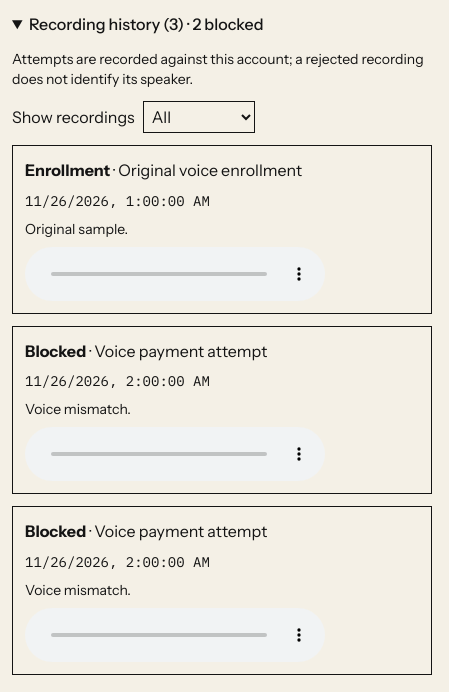
Scenario: shows original and blocked audio separately and preserves the original player when later recordings arrive
expect the number of elements named "Play consented security recording" is 3: met, box 25,247 -> 325,301; 25,427 -> 325,481; 25,608 -> 325,662
Select "Blocked" in the dropdown named "Filter recording history". click: x=199, y=117
box: 143,101 -> 255,133
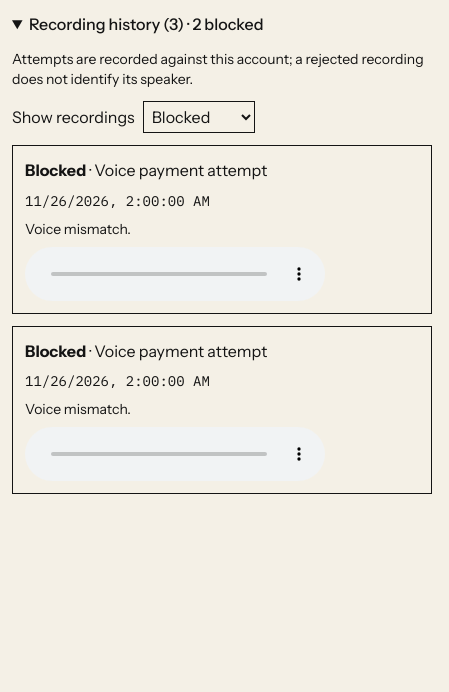
expect the text "Original voice enrollment" is gone: met
expect the text "Voice mismatch." is shown 2 times: met, box 25,220 -> 131,238; 25,400 -> 131,418
